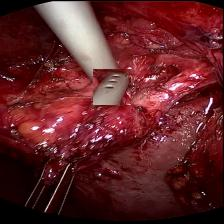Grasper: (26, 142, 86, 220)
Irrigator: (93, 68, 131, 104)
